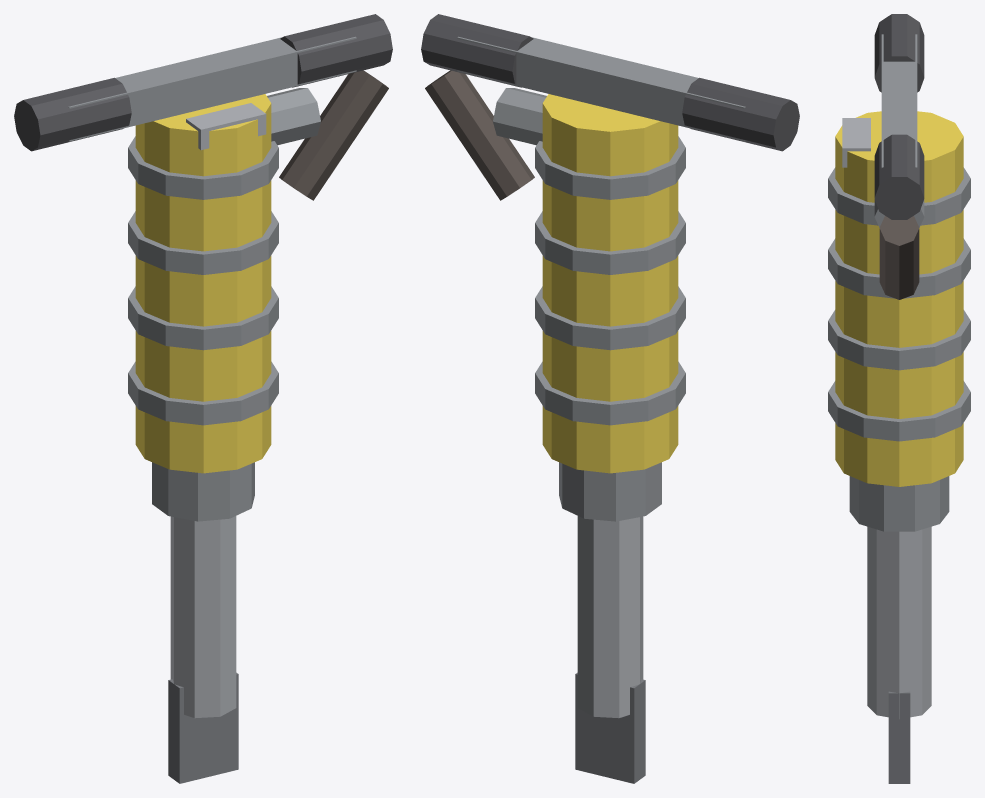
File: jackhammer.glb
The picture shows the model from 3 angles, left to right: view 1: azimuth 30°, elevation 25°; view 2: azimuth 150°, elevation 25°; view 3: azimuth 270°, elevation 25°; orthographic projection. The views are drawn at different scales.
Parts seen in each view (by area): view 1: jackhammer; view 2: jackhammer; view 3: jackhammer.
Part boxes in pixels (x1=…): jackhammer: x1=14, y1=14, x2=392, y2=783; jackhammer: x1=421, y1=14, x2=799, y2=783; jackhammer: x1=828, y1=14, x2=970, y2=783.
Bounding box in the file's own units: 0.5494 × 1.04 × 0.2.
